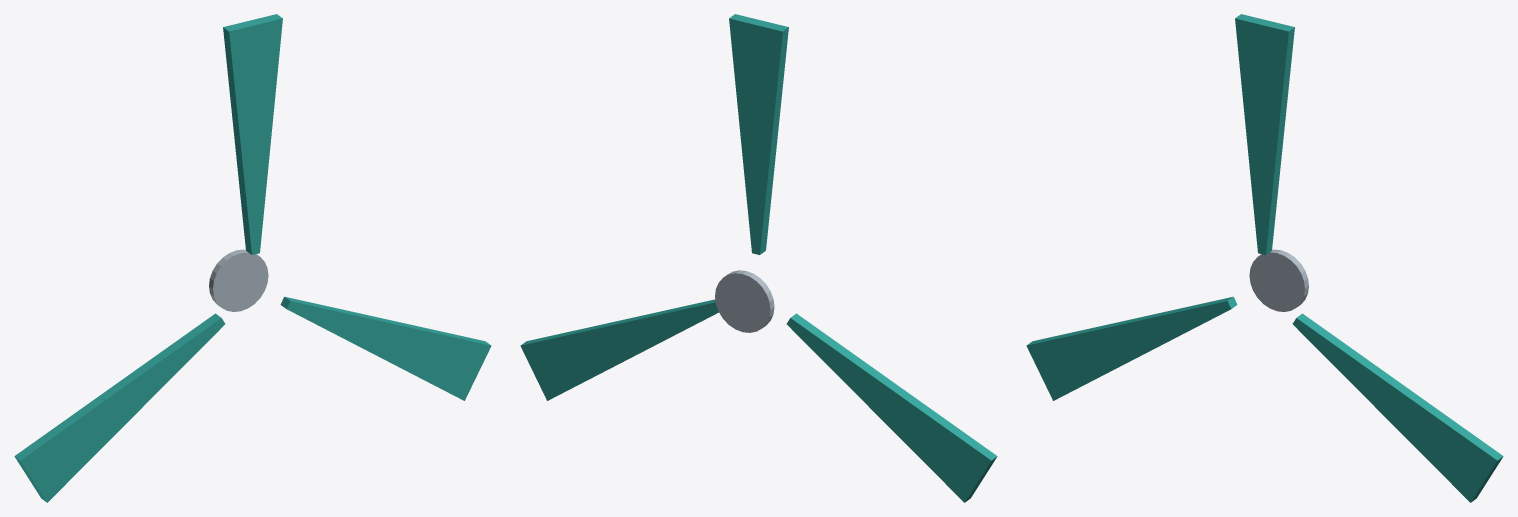
File: MotionReady_Fan_Rotor.obj
The picture shows the model from 3 angles, left to right: view 1: azimuth 30°, elevation 25°; view 2: azimuth 150°, elevation 25°; view 3: azimuth 330°, elevation 25°; orthographic projection.
Parts seen in each view (by area): view 1: Ceiling_fan_blade_2, Ceiling_fan_blade_1, Ceiling_fan_blade_3, Ceiling_fan_cap; view 2: Ceiling_fan_blade_2, Ceiling_fan_blade_1, Ceiling_fan_blade_3, Ceiling_fan_cap; view 3: Ceiling_fan_blade_3, Ceiling_fan_blade_1, Ceiling_fan_blade_2, Ceiling_fan_cap.
Part boxes in pixels (x1,y1,x2,y2): Ceiling_fan_blade_2: (14, 313, 225, 502); Ceiling_fan_blade_1: (223, 14, 282, 254); Ceiling_fan_blade_3: (280, 296, 491, 400); Ceiling_fan_cap: (209, 249, 268, 311); Ceiling_fan_blade_2: (786, 313, 997, 502); Ceiling_fan_blade_1: (729, 14, 788, 254); Ceiling_fan_blade_3: (520, 299, 718, 400); Ceiling_fan_cap: (715, 270, 774, 332); Ceiling_fan_blade_3: (1292, 313, 1503, 502); Ceiling_fan_blade_1: (1235, 14, 1294, 254); Ceiling_fan_blade_2: (1026, 296, 1237, 400); Ceiling_fan_cap: (1249, 249, 1308, 311).
Size of the model in its own units: 1336 by 1157 by 95.
